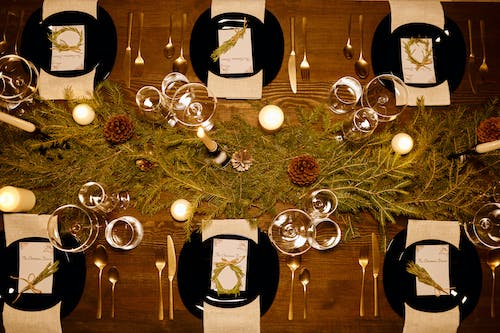knife: (465, 18, 480, 94), (370, 232, 382, 317), (286, 14, 298, 95), (165, 234, 176, 321), (122, 10, 134, 89)
